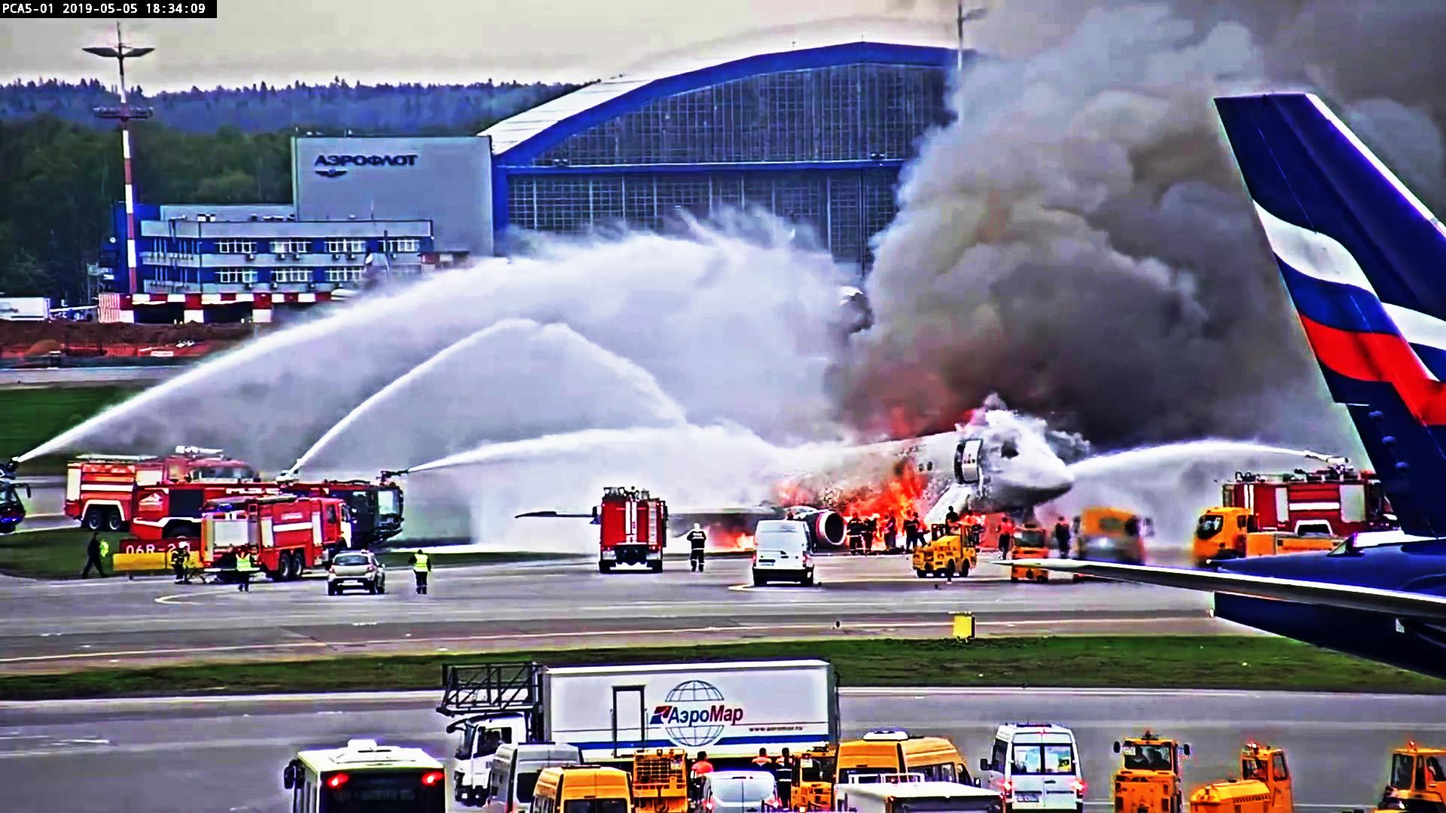smoke: (868, 134, 1201, 399)
